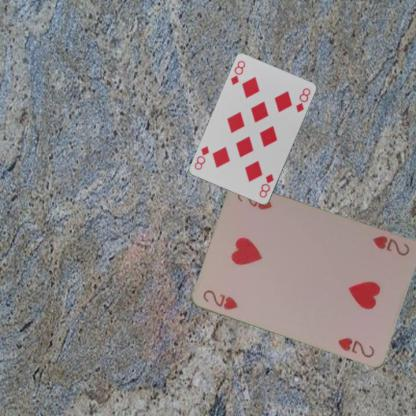2h: (370, 233, 410, 258), (200, 287, 239, 312)
8d: (228, 58, 247, 86), (257, 171, 275, 199)
